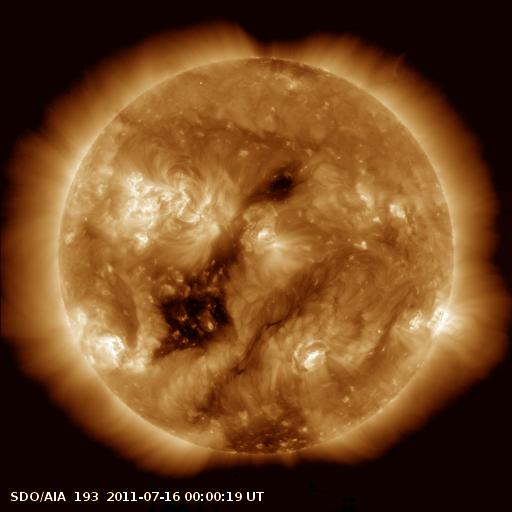coronal_hole: (147, 236, 251, 363), (215, 404, 318, 462), (234, 161, 304, 219)
